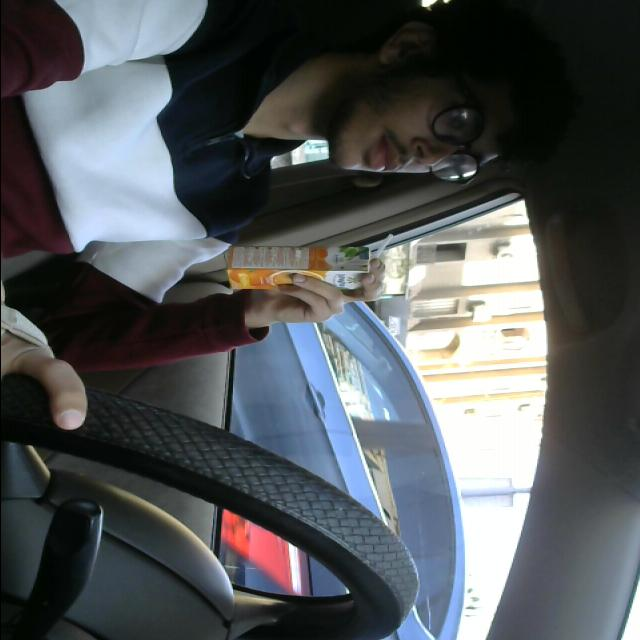drinking: (228, 228, 406, 294)
